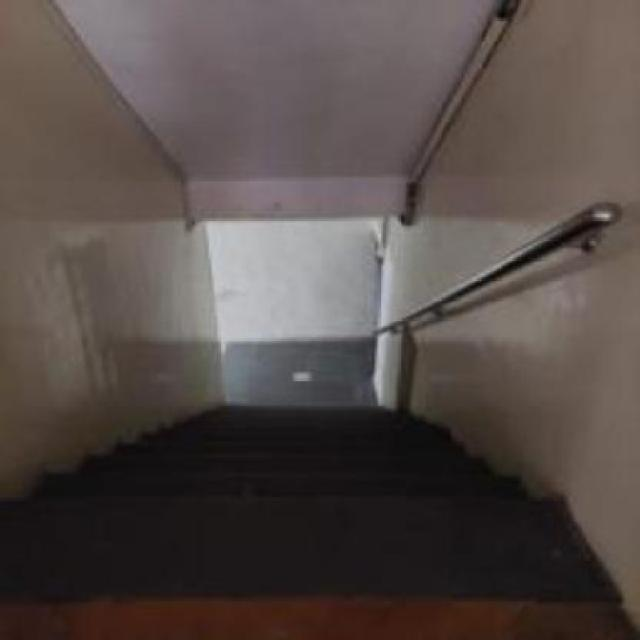stair: (4, 382, 584, 542)
